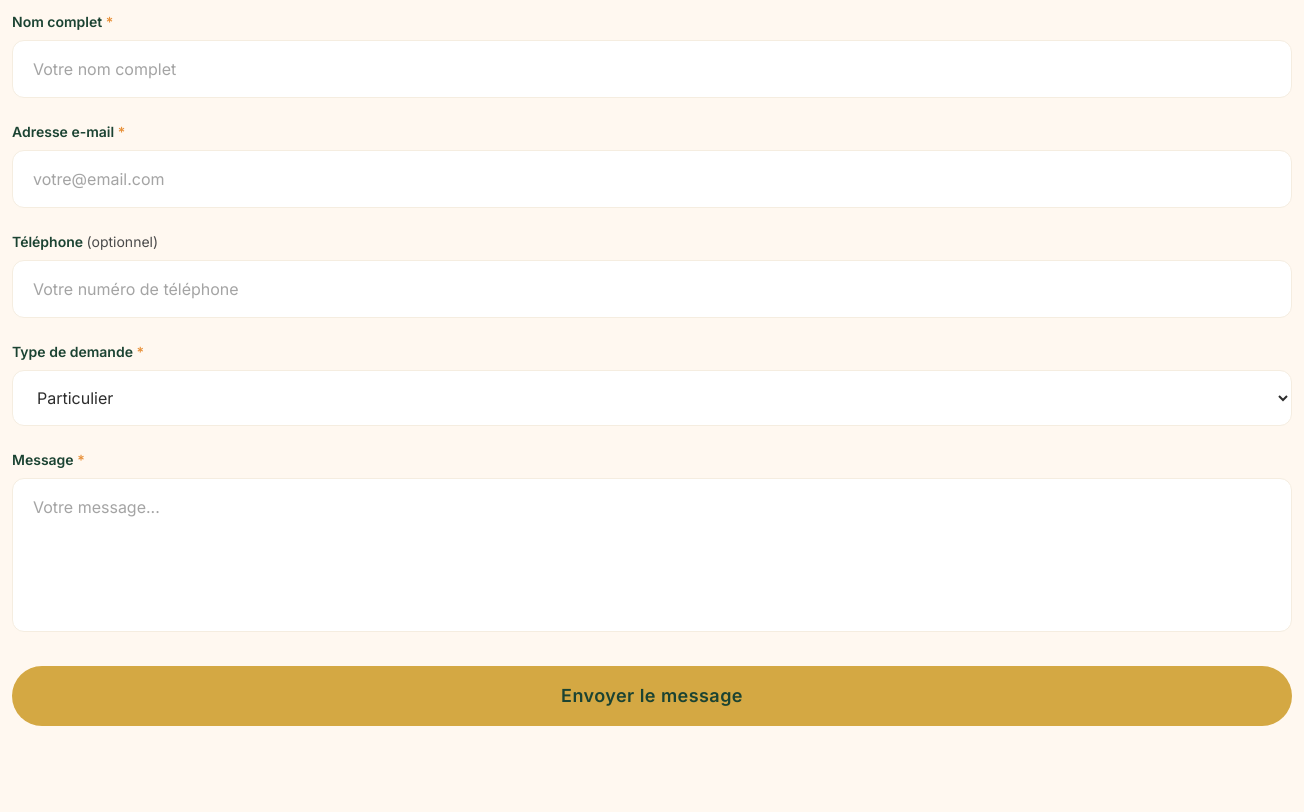
Scenario: ContactForm › preserves form data after validation errors
In the field labelled "Nom complet *": (652, 69) [12, 40, 1292, 98], type "Jean Dupont"
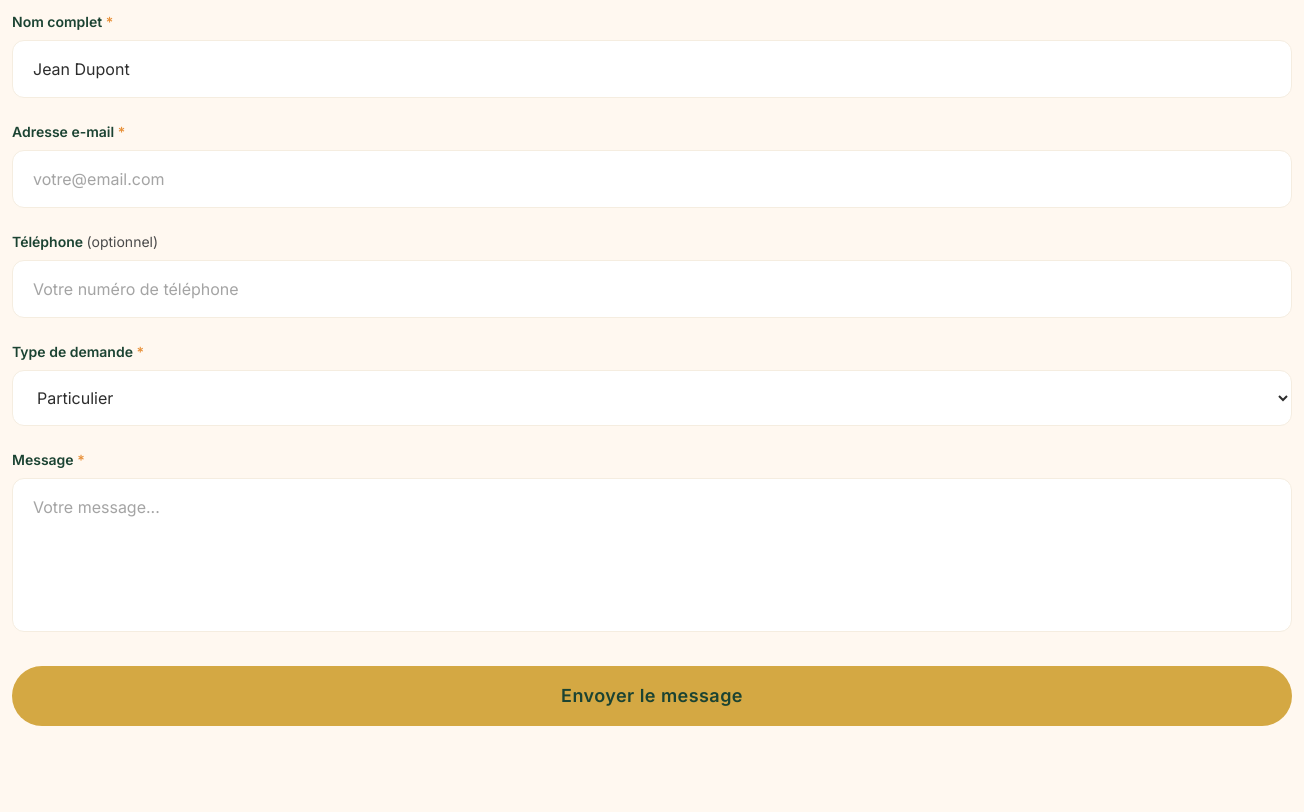
In the field labelled "Adresse e-mail *": (652, 179) [12, 150, 1292, 208], type "bad-email"
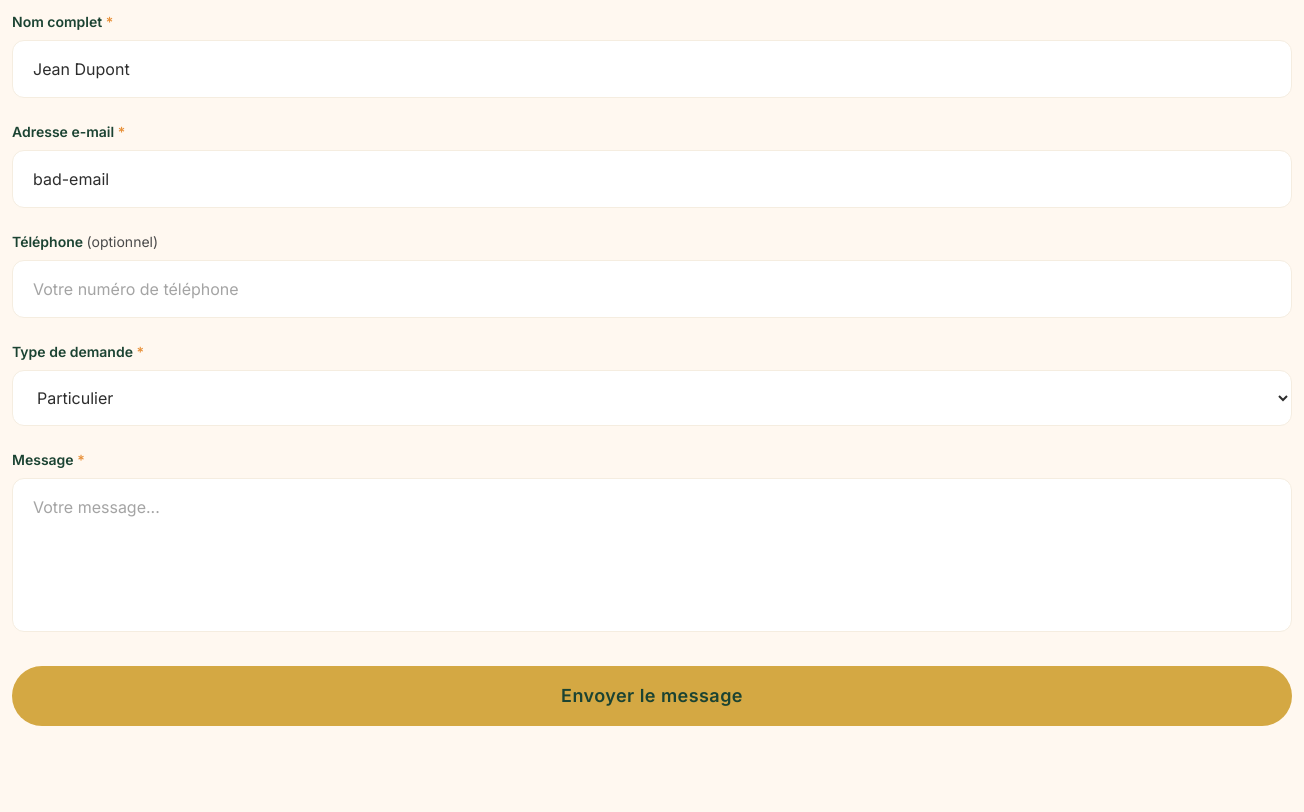
Click the button "Envoyer le message": (652, 696) [12, 666, 1292, 726]
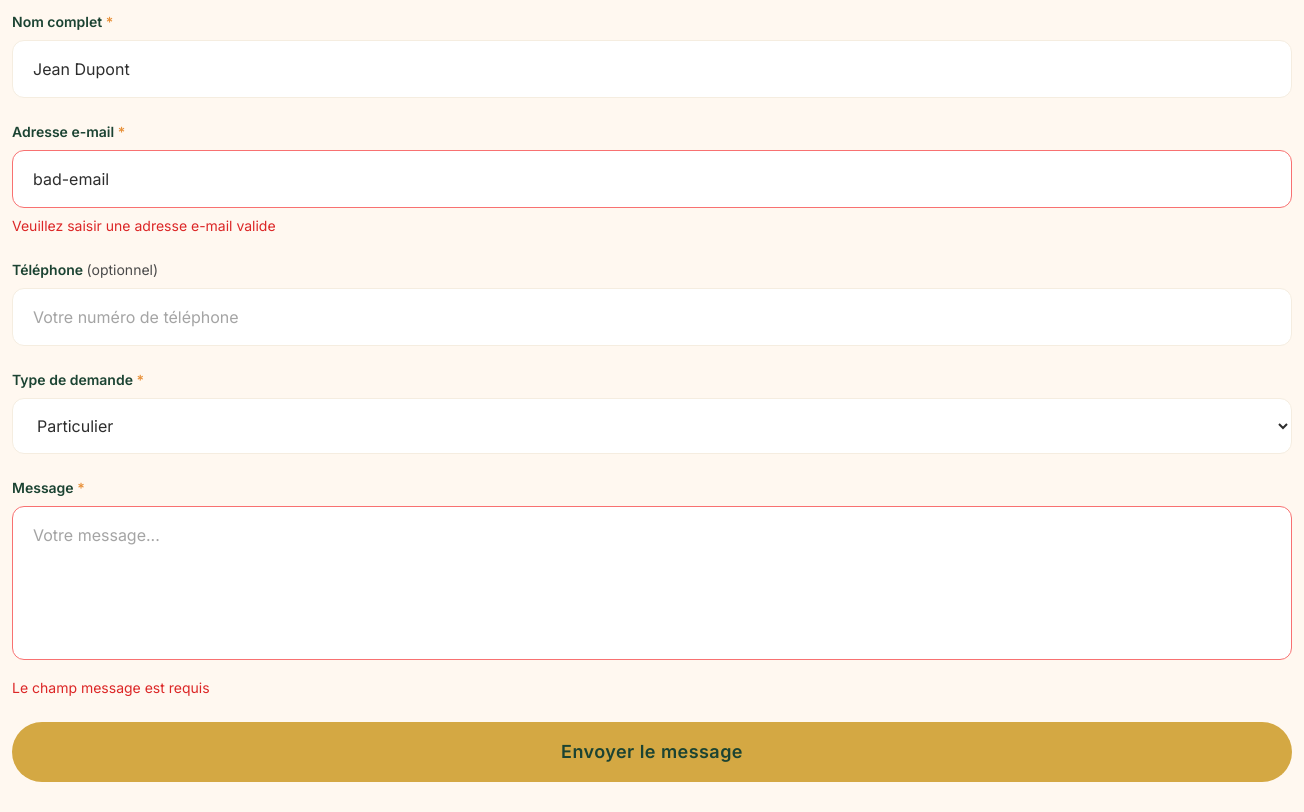
Now the text "Veuillez saisir une adresse e-mail valide" is shown, box [12, 217, 276, 234]
